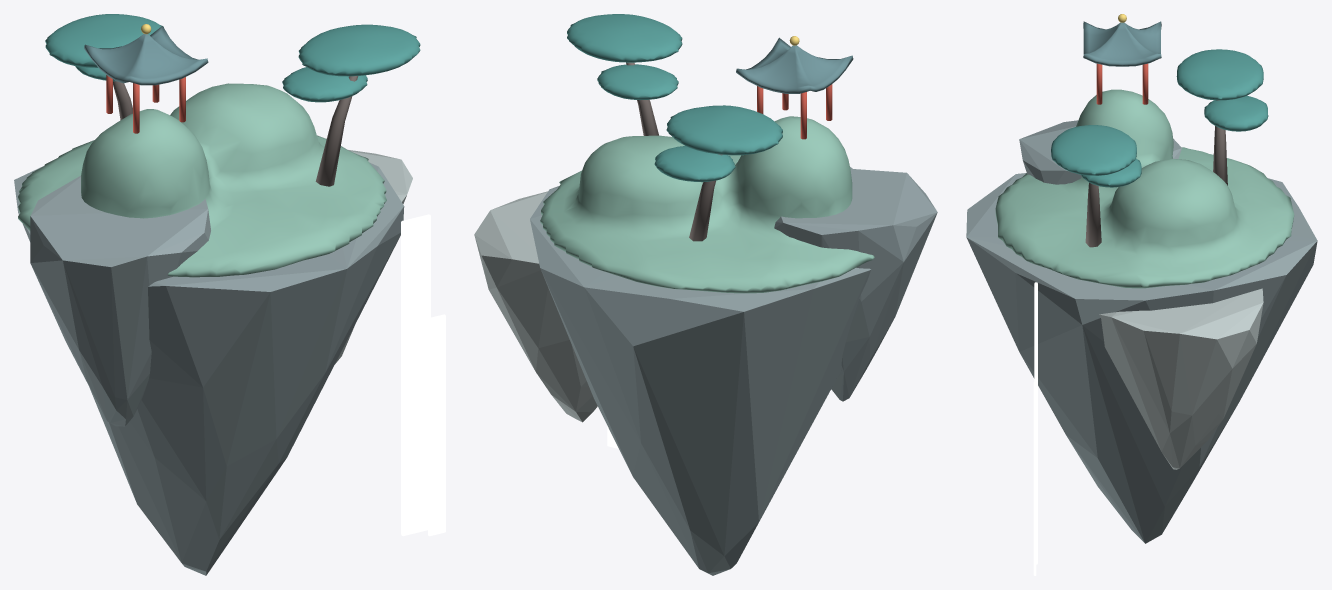
File: float_peak.glb
3 renders of one model, left to right at view 1: azimuth 30°, elevation 25°; view 2: azimuth 150°, elevation 25°; view 3: azimuth 270°, elevation 25°, orthographic. The views are drawn at different scales.
Visible parts, largest first — view 1: Peak0, Moss, Peak2, Fall, Pad0, Roof, Fall2, Pad1, Trunk0, Peak1; view 2: Peak0, Moss, Peak2, Peak1, Pad0, Pad1, Roof, Trunk1; view 3: Peak0, Moss, Peak1, Pad1, Pad0, Roof, Peak2, Trunk0, Fall2, Fall, Trunk1.
Part boxes in pixels (x1,y1,x2,y2): Peak0: [14, 162, 404, 575]; Moss: [18, 83, 386, 277]; Peak2: [30, 175, 210, 426]; Fall: [401, 214, 430, 536]; Pad0: [282, 24, 420, 102]; Roof: [84, 26, 208, 85]; Fall2: [428, 314, 445, 536]; Pad1: [45, 14, 163, 81]; Trunk0: [315, 76, 358, 186]; Peak1: [335, 149, 412, 363]; Peak0: [530, 167, 871, 575]; Moss: [540, 116, 874, 293]; Peak2: [774, 168, 937, 401]; Peak1: [474, 191, 597, 422]; Pad0: [567, 14, 682, 99]; Pad1: [654, 105, 782, 182]; Roof: [736, 37, 853, 93]; Trunk1: [689, 154, 722, 241]; Peak0: [966, 173, 1317, 543]; Moss: [995, 89, 1294, 288]; Peak1: [1099, 288, 1263, 469]; Pad1: [1176, 49, 1268, 131]; Pad0: [1051, 125, 1141, 187]; Roof: [1083, 21, 1161, 66]; Peak2: [1019, 120, 1181, 184]; Trunk0: [1085, 182, 1101, 247]; Fall2: [1033, 382, 1036, 575]; Fall: [1034, 282, 1037, 564]; Trunk1: [1213, 100, 1227, 185].
Size of the model in its own units: 7.02 by 9.57 by 6.11.
